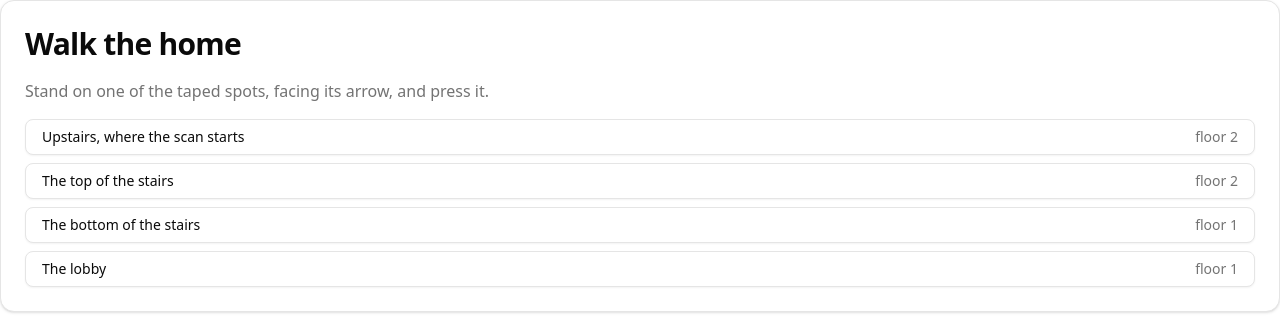
Scenario: lines up on a spot and walks, with Line up again first
Click the button "Upstairs, where the scan starts floor 2".
click(143, 136)  # box [25,118,1255,154]
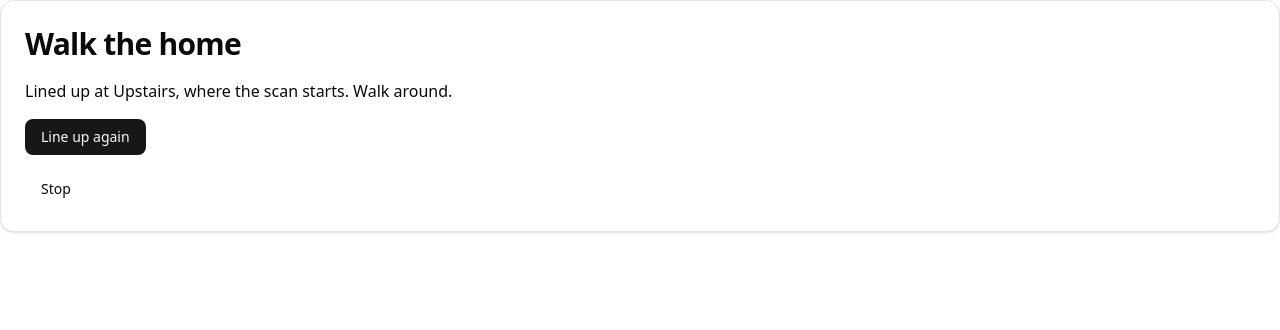
Check: the button "Line up again" is shown, box [25,118,146,154]
Check: the button "Stop" is shown, box [25,170,87,206]
